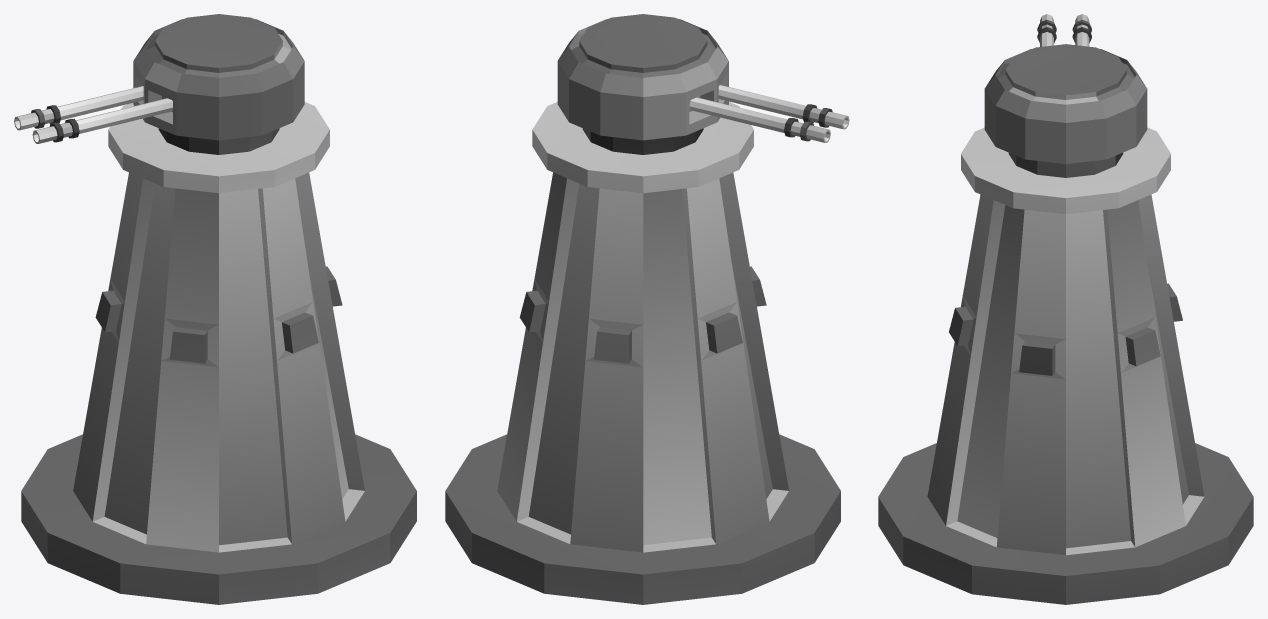
The model's file is tower.fbx.
3 views of the same model, side by side, from view 1: azimuth 30°, elevation 25°; view 2: azimuth 150°, elevation 25°; view 3: azimuth 270°, elevation 25° (orthographic). The views are drawn at different scales.
Parts seen in each view (by area): view 1: Cylinder.028, Cylinder.029, Cylinder.030; view 2: Cylinder.028, Cylinder.029, Cylinder.030; view 3: Cylinder.028, Cylinder.029, Cylinder.030.
Part boxes in pixels (x1,y1,x2,y2): Cylinder.028: [21, 102, 416, 604]; Cylinder.029: [133, 14, 304, 140]; Cylinder.030: [14, 86, 172, 143]; Cylinder.028: [445, 102, 840, 604]; Cylinder.029: [557, 14, 728, 140]; Cylinder.030: [689, 85, 849, 142]; Cylinder.028: [878, 127, 1253, 604]; Cylinder.029: [984, 44, 1147, 163]; Cylinder.030: [1037, 14, 1091, 46].
Bounding box in the file's own units: 151 × 191 × 142.
